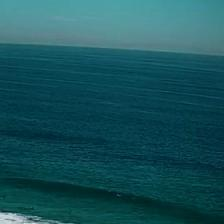surfer: (26, 206, 34, 210), (2, 195, 6, 199), (68, 210, 72, 213), (28, 218, 33, 220)
